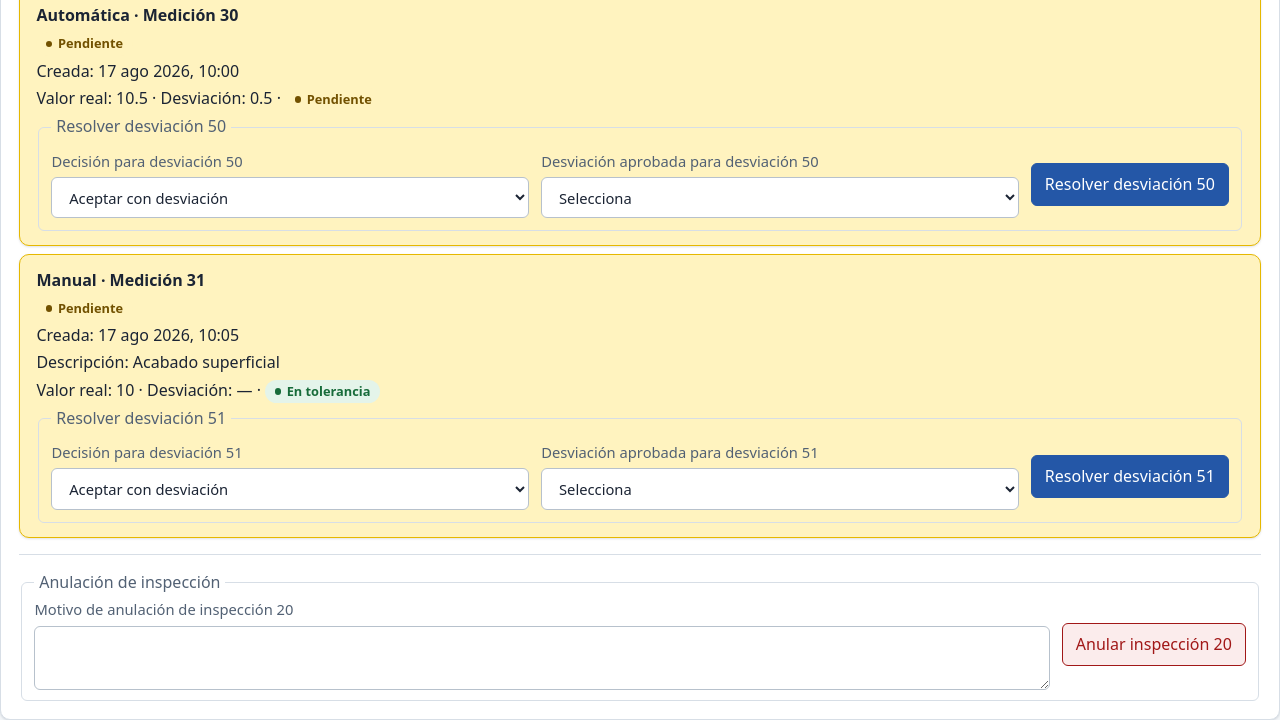
Test case: requires and submits a rejection reason without an approved entry
This screenshot has width=1280, height=720.
(page scrolled)
Select "Rechazar" in the dropdown labelled "Decisión para desviación 51" at (290, 489), box [51, 468, 529, 510]
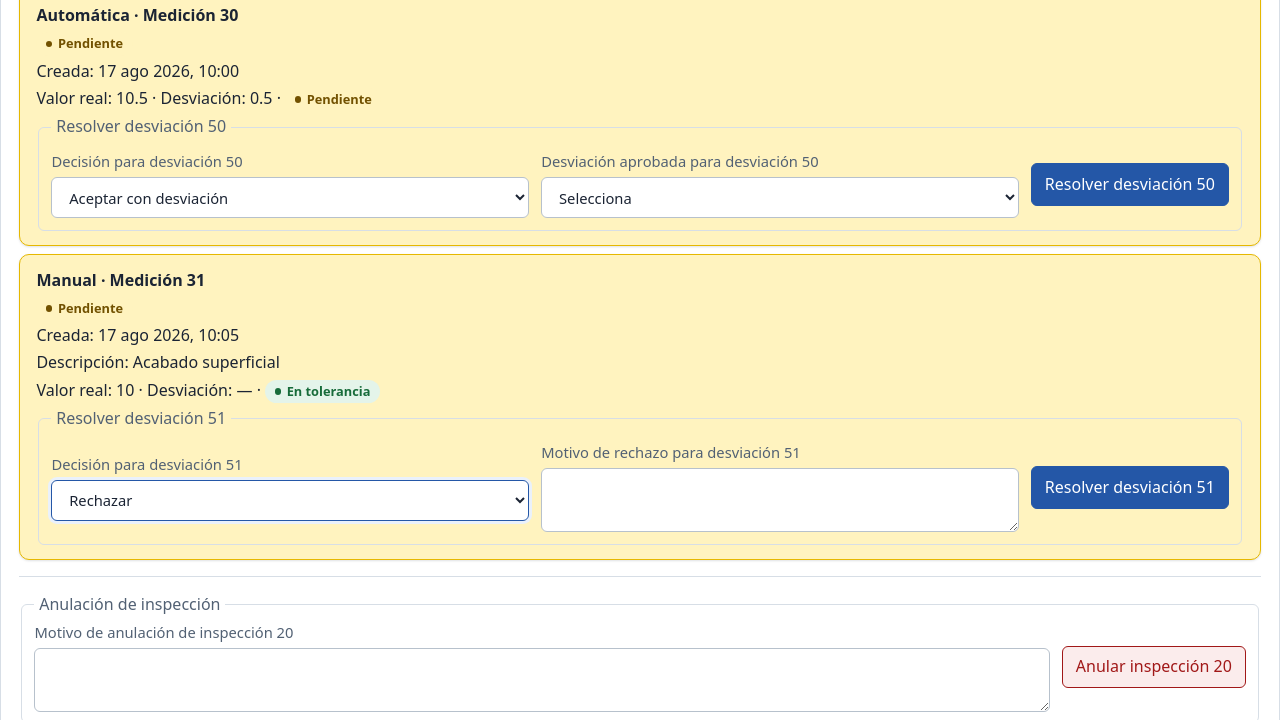
Submit the form "Resolver desviación 51", box [36, 407, 1244, 546]
(page scrolled)
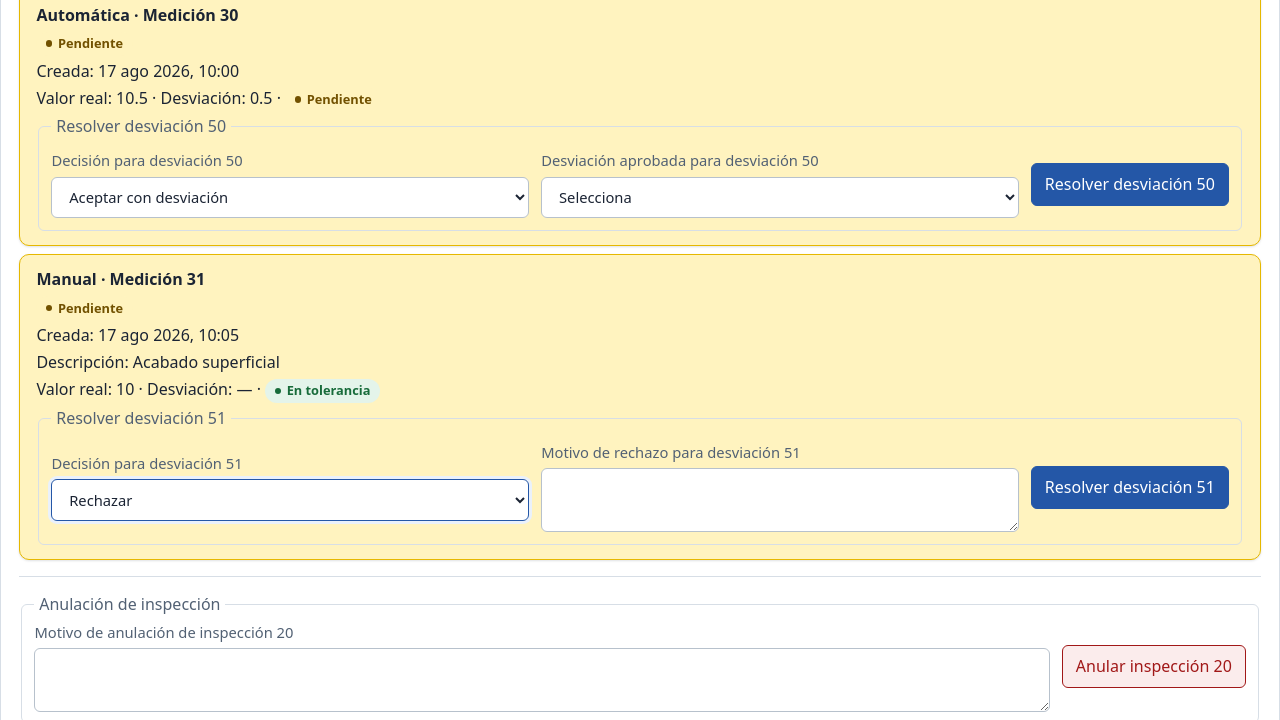
Type "Rechazar pieza" into the text box labelled "Motivo de rechazo para desviación 51".
click(780, 500); type("Rechazar pieza")  # box [541, 468, 1019, 532]
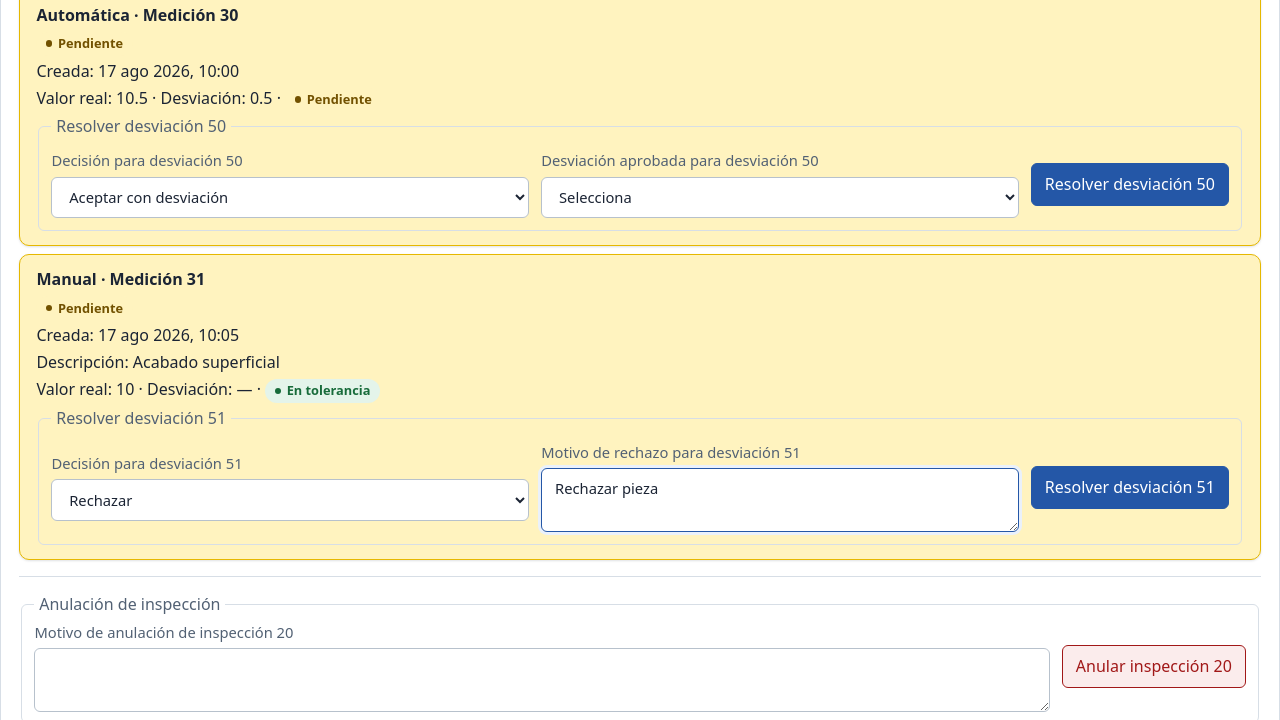
Click the button "Resolver desviación 51".
click(1130, 487)  # box [1031, 466, 1229, 509]
(page scrolled)
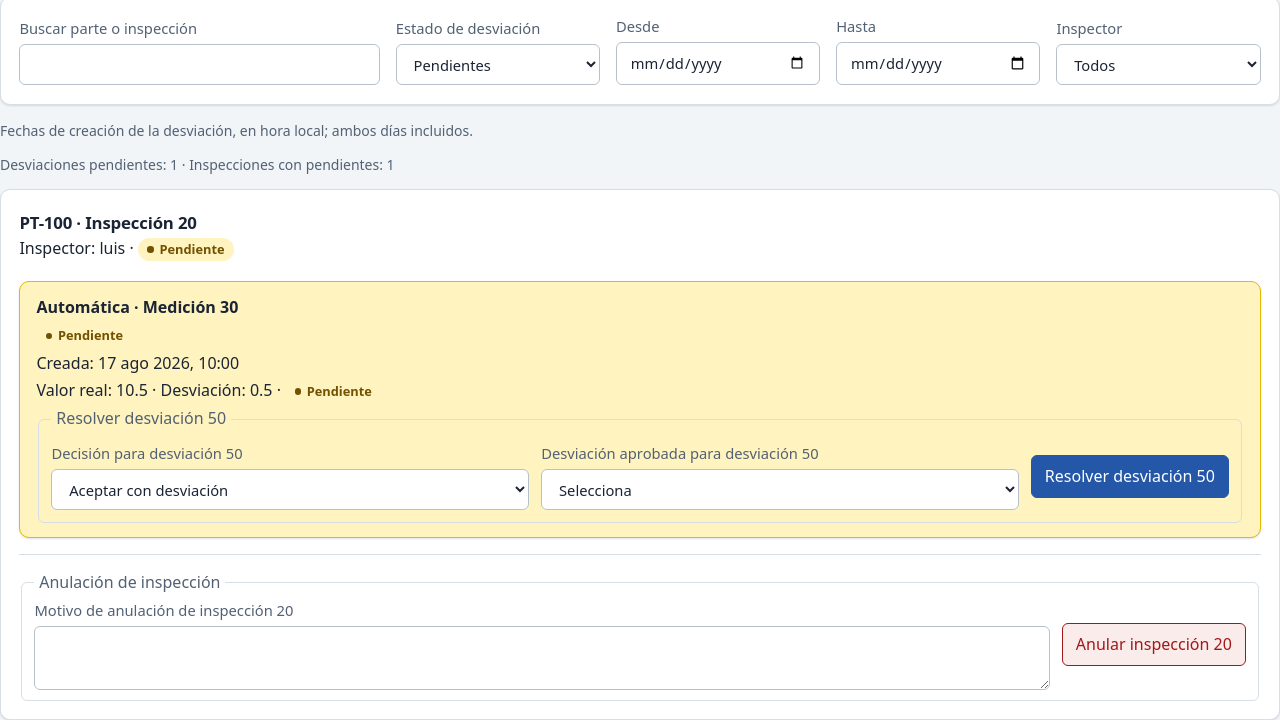
Select "Rechazadas" in the dropdown labelled "Estado de desviación" at (498, 64), box [396, 44, 600, 85]
(page scrolled)
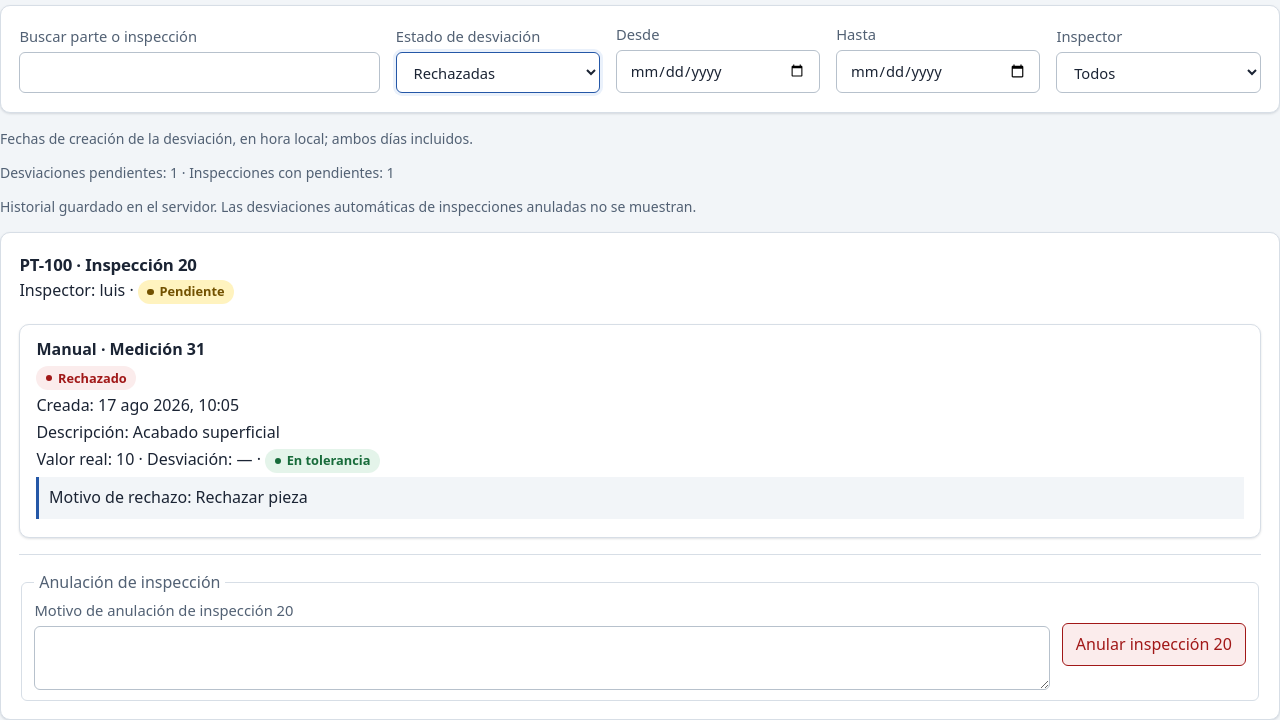
Expected: the text "Resolver desviación 51" is not shown
Now the text "Motivo de rechazo: Rechazar pieza" is shown, box [36, 477, 1244, 519]
